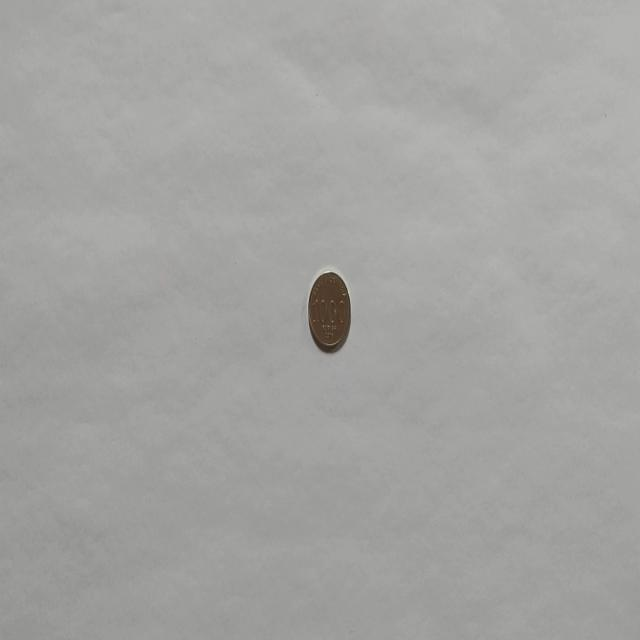seribu rupiah koin: (306, 266, 352, 354)
